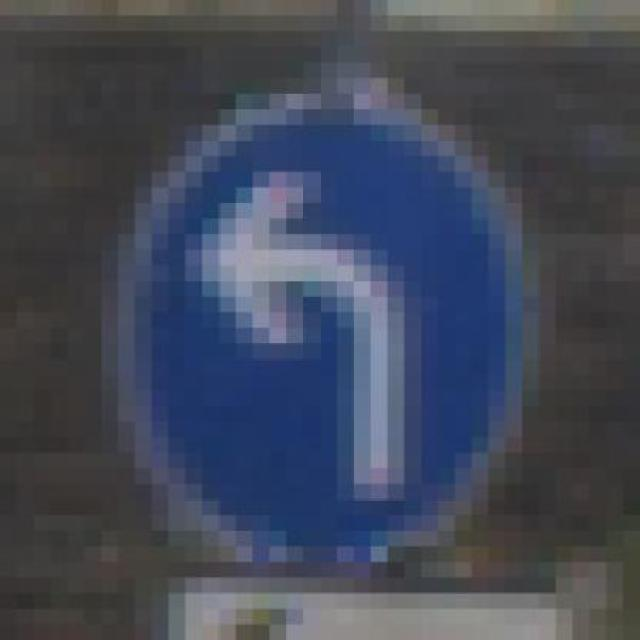Turn left ahead: (84, 62, 556, 578)
